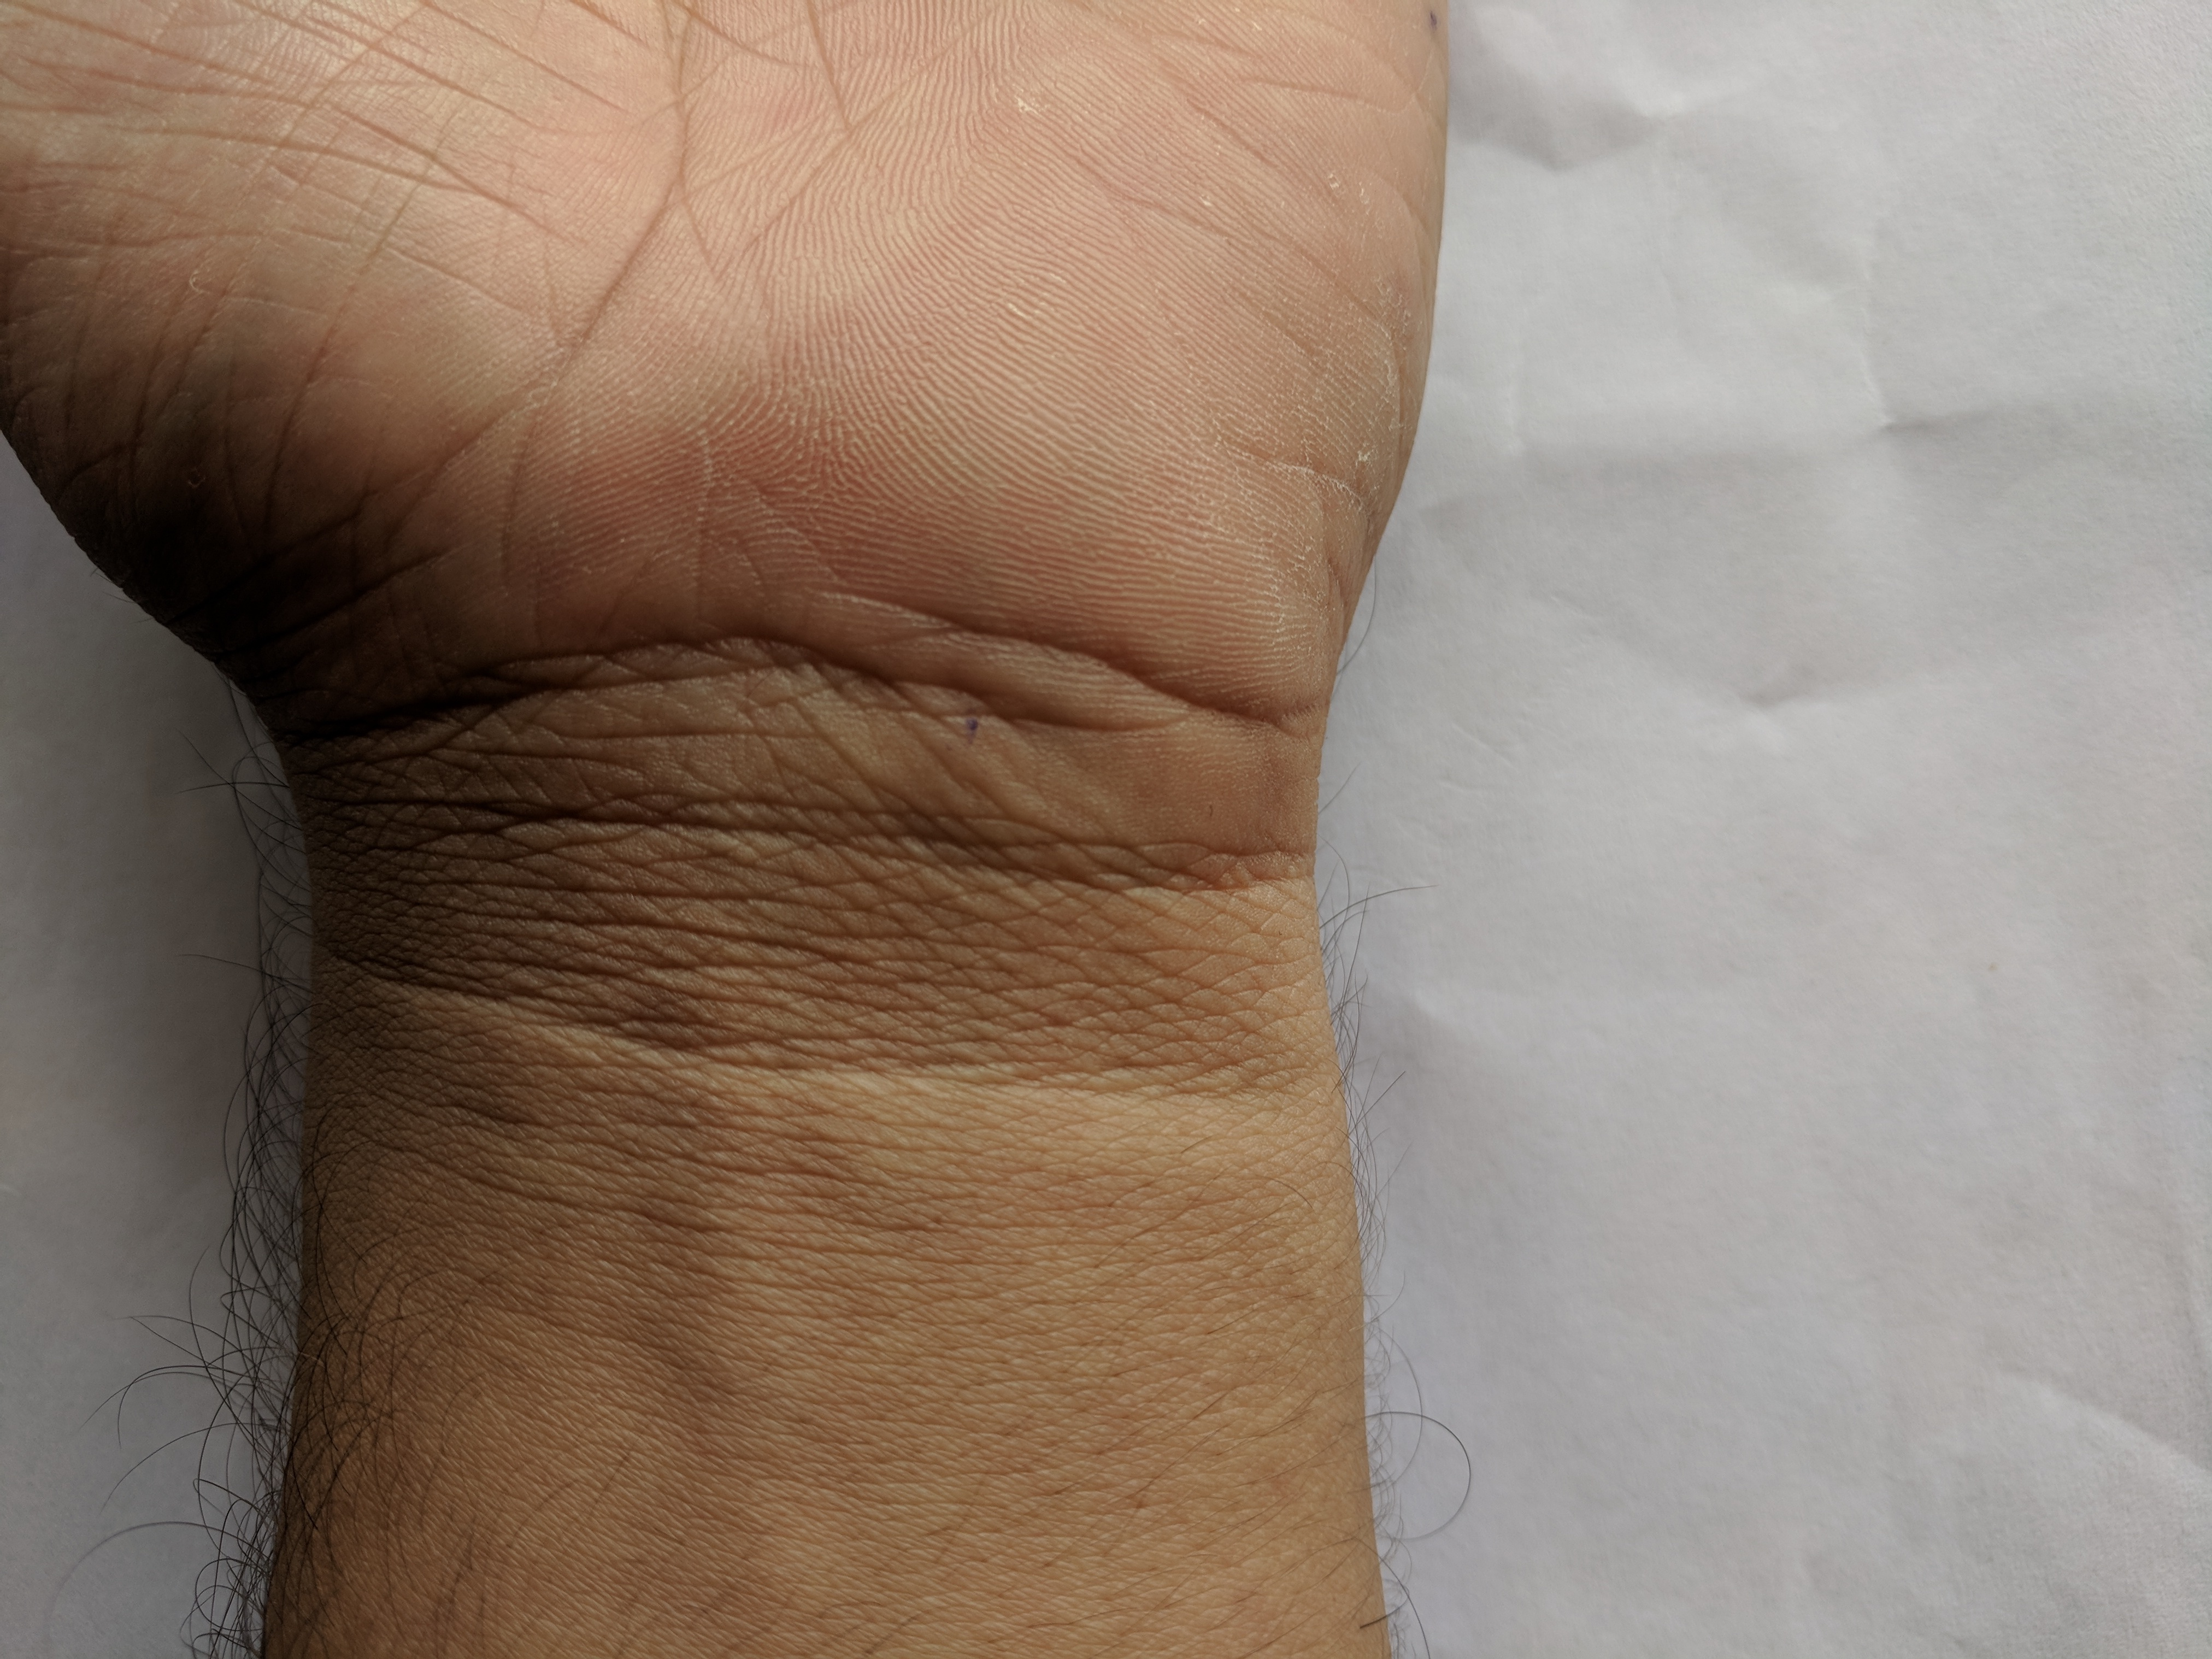lefthandwrist: (183, 633, 1355, 1159)
